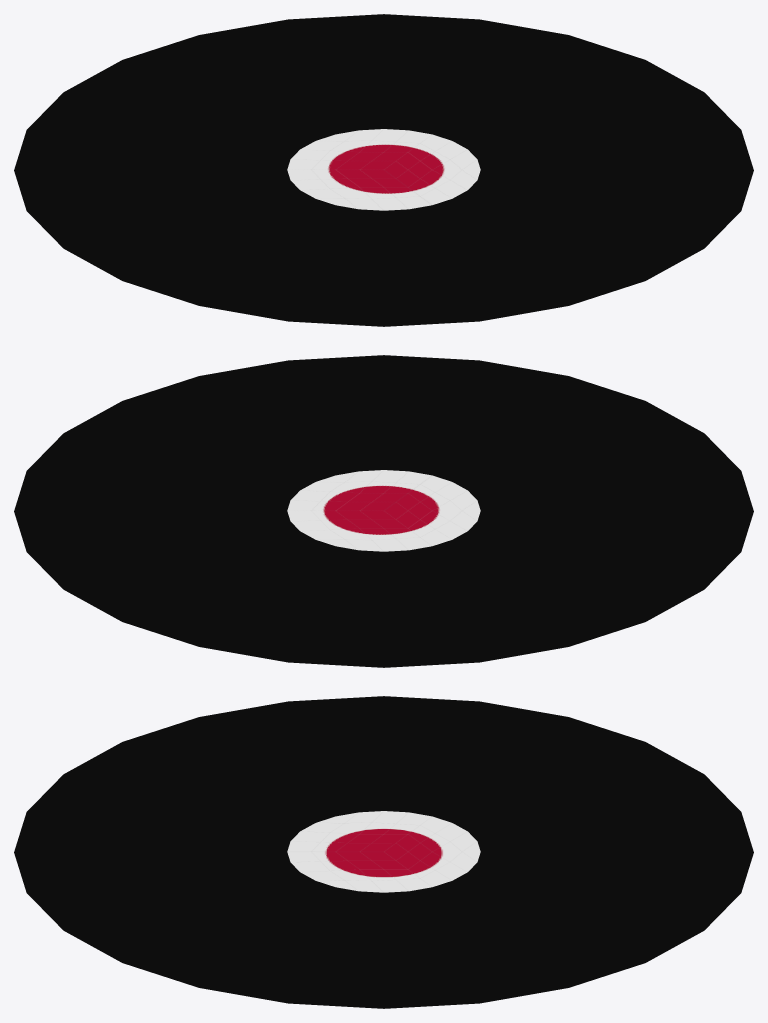
The model's file is JAPANFLagVinyl.fbx.
The picture shows the model from 3 angles, top to bottom: view 1: azimuth 30°, elevation 25°; view 2: azimuth 150°, elevation 25°; view 3: azimuth 270°, elevation 25°; orthographic projection.
Parts seen in each view (by area): view 1: VinylJap; view 2: VinylJap; view 3: VinylJap.
Part boxes in pixels (bbox=[...]): VinylJap: bbox=[14, 14, 753, 326]; VinylJap: bbox=[14, 355, 753, 667]; VinylJap: bbox=[14, 696, 753, 1008].
Bounding box in the file's own units: 7.65 × 0.00723 × 7.65.
2 materials, 1 textured.
